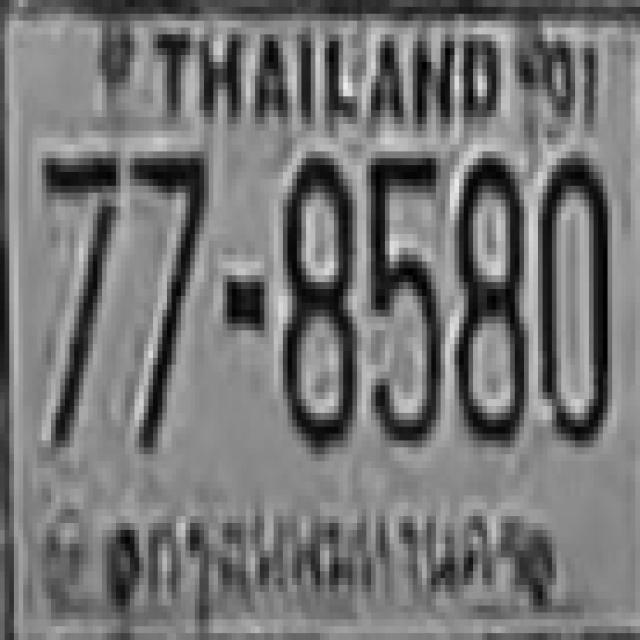0: (538, 152, 608, 440)
5: (366, 152, 441, 440)
7: (35, 148, 118, 444), (130, 144, 204, 448), (37, 148, 121, 354)
8: (278, 152, 352, 448), (450, 152, 524, 440)
BKK: (138, 489, 532, 621)
